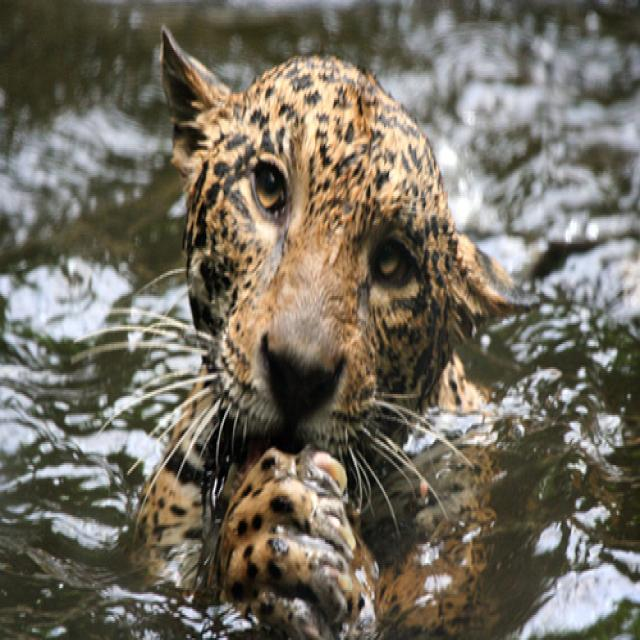Leopard: (70, 17, 543, 636)
